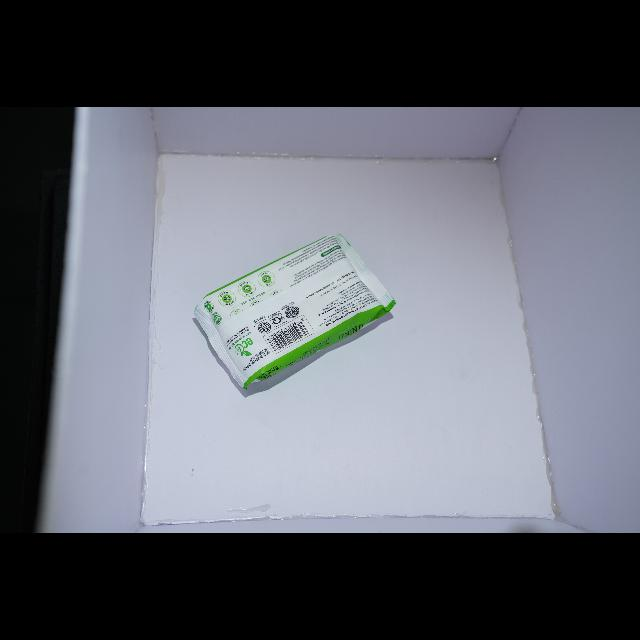khan_giay: (195, 235, 394, 390)
